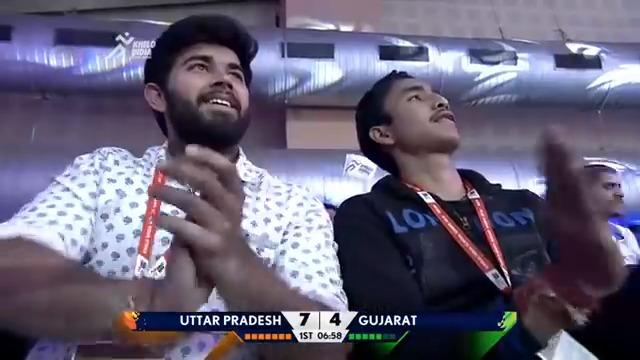Player: (0, 12, 349, 358), (331, 68, 628, 358)
